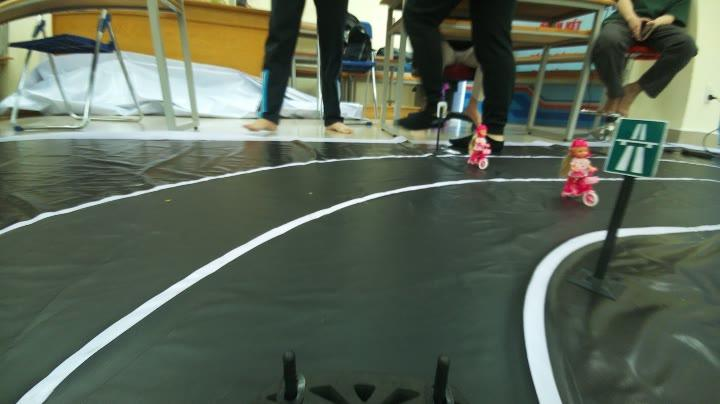highway_entry: (610, 108, 662, 182)
pedestrian: (552, 138, 601, 208), (458, 124, 496, 169)
